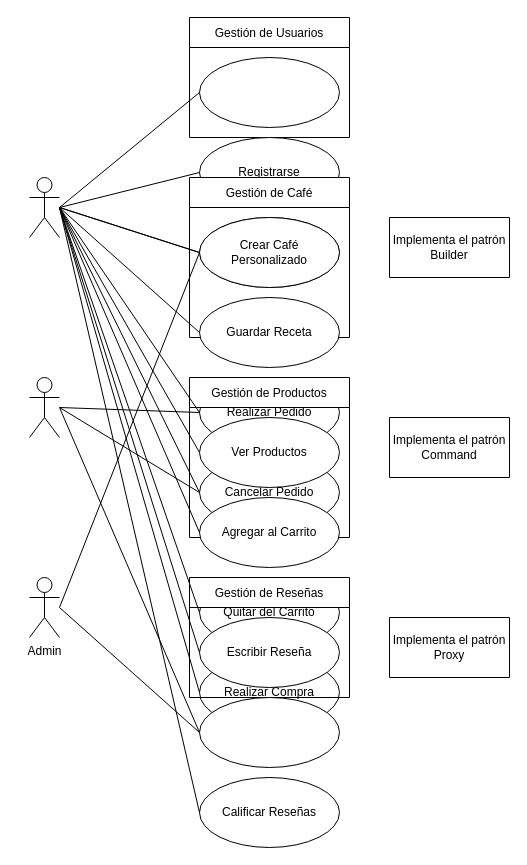
The diagram is 527 pixels wide and 865 high, and some of its shapes have lost their labels. The shapes that lost their labels are listed below. From the top down, each one's centre as x and y in pixels, then its label:
the point at 269,92: Iniciar Sesión
the point at 44,207: Cliente
the point at 44,407: Empleado
the point at 269,732: Moderar Reseñas
